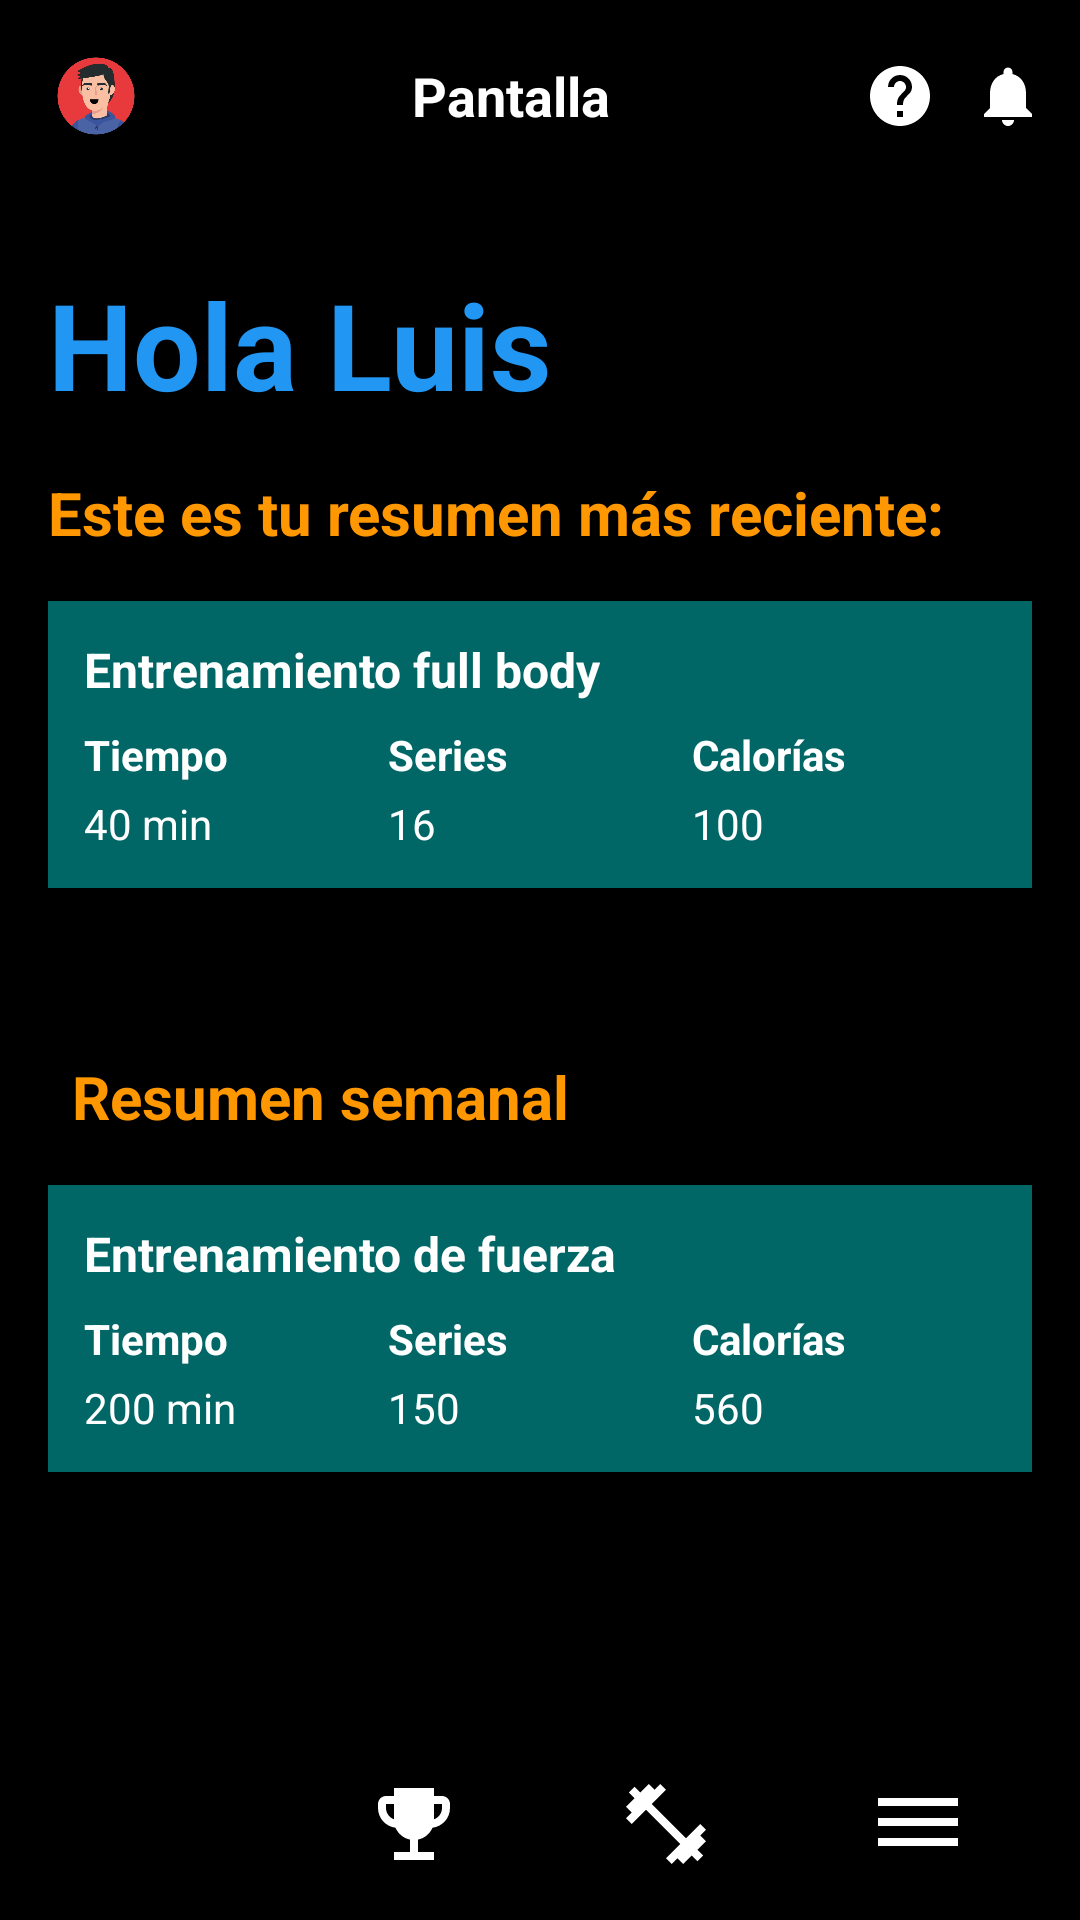

Locate icon controls on the screen. Image size 1080x1920, boxes as (x1, y1, x2, y2).
Ayuda: (870, 66, 930, 126)
Icono de entrenamiento: (626, 1784, 706, 1864)
Icono de logros: (378, 1788, 450, 1860)
Icono del menú: (878, 1798, 958, 1846)
Notificaciones: (984, 67, 1032, 126)
